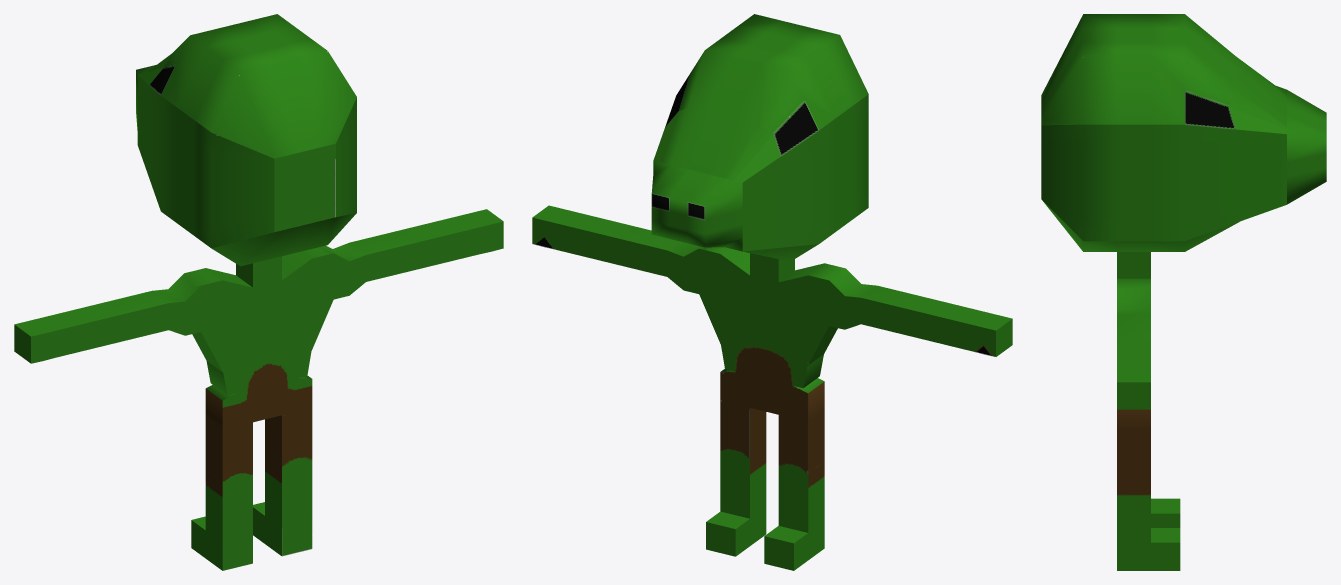
The model's file is Lman.fbx.
3 views of the same model, side by side, from view 1: azimuth 30°, elevation 25°; view 2: azimuth 150°, elevation 25°; view 3: azimuth 270°, elevation 25° (orthographic). The views are drawn at different scales.
Visible parts, largest first — view 1: pCube1; view 2: pCube1; view 3: pCube1.
Part boxes in pixels (x1,y1,x2,y2): pCube1: [14, 14, 503, 570]; pCube1: [532, 14, 1012, 570]; pCube1: [1041, 14, 1326, 570].
Bounding box in the file's own units: 3.24 × 3.35 × 1.69.
1 material, 1 textured.
